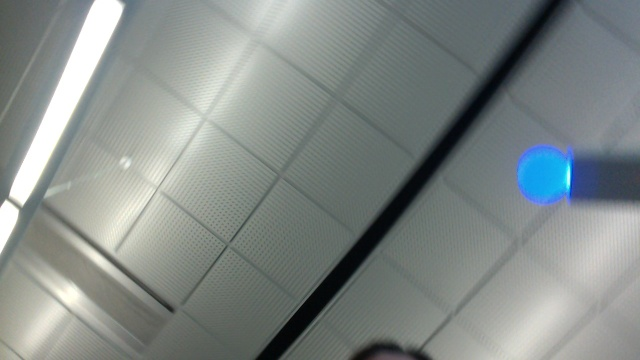wand: (518, 146, 574, 203)
